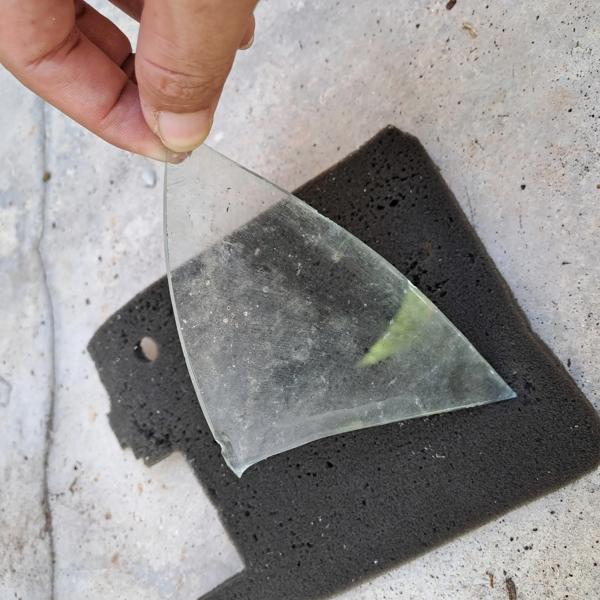Anorganik: (118, 130, 528, 497)
